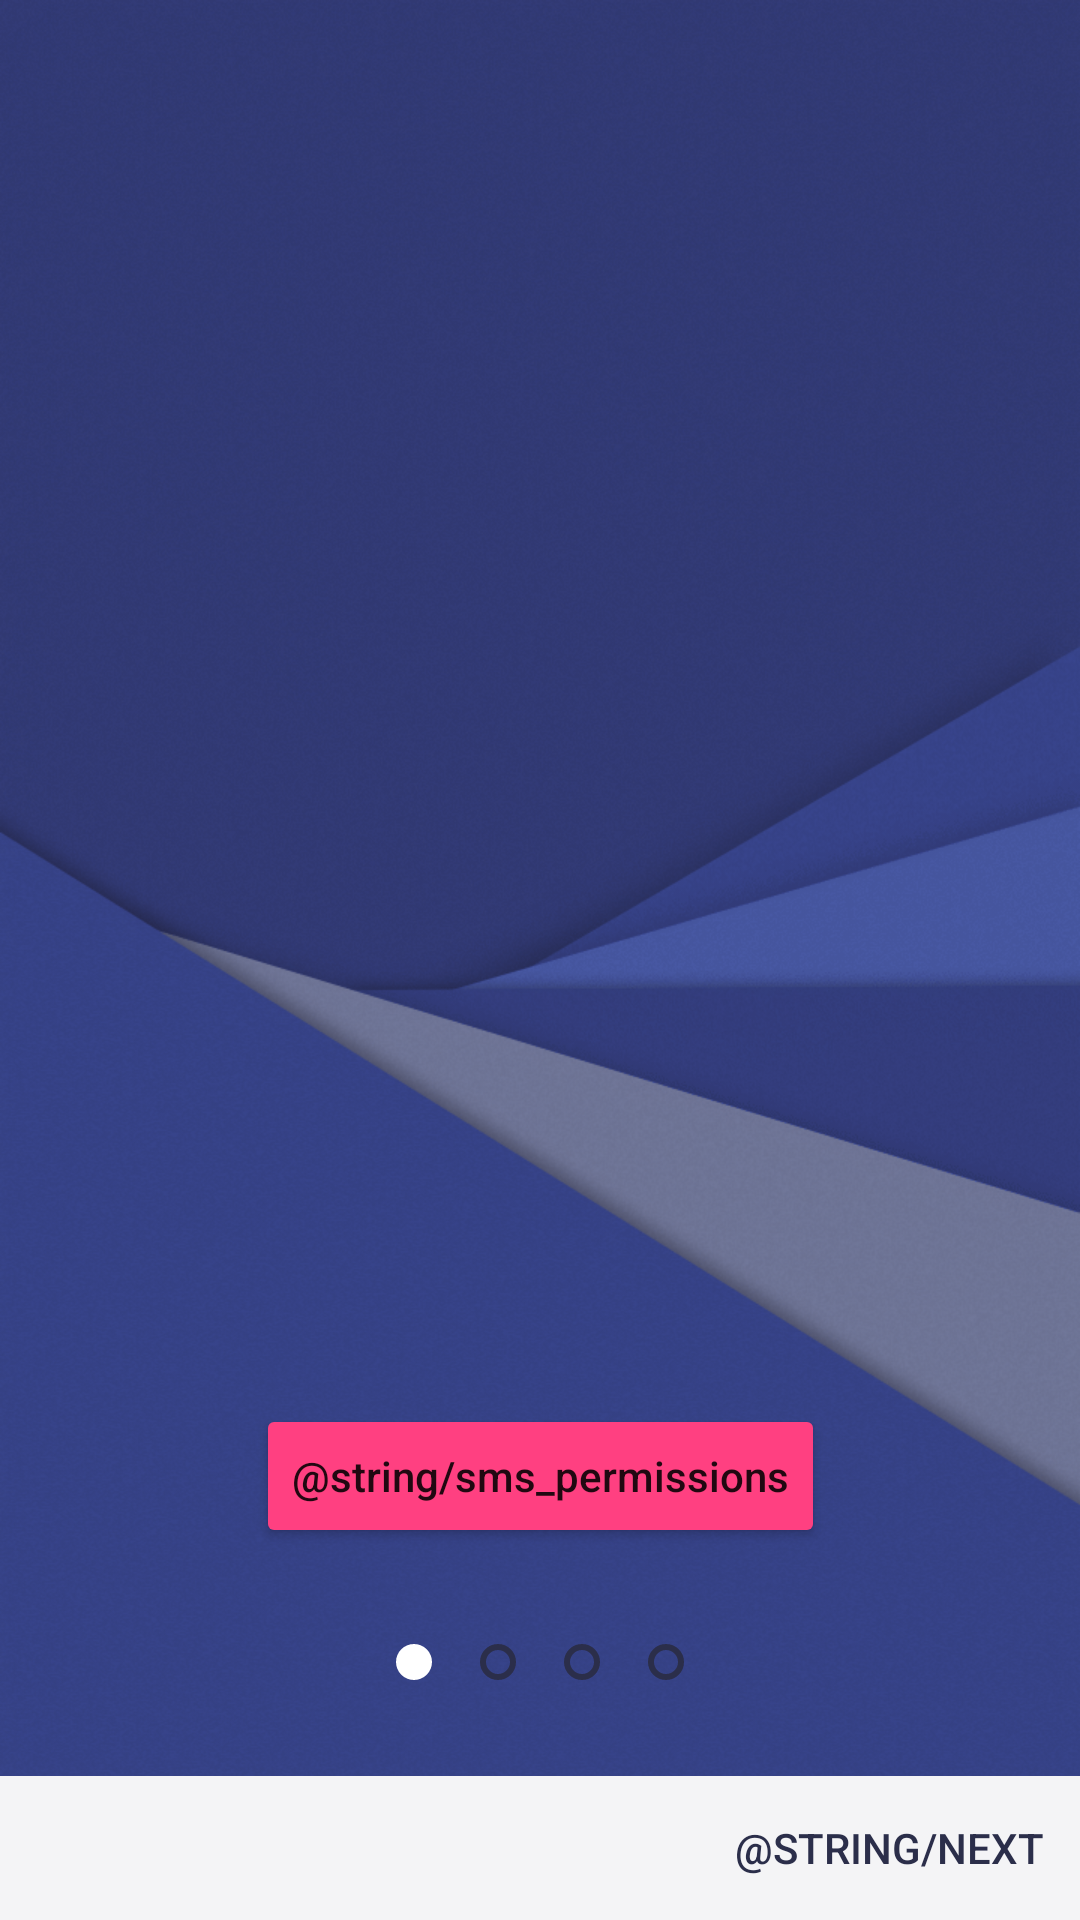

Locate icon controls on the screen. Image size 1080×1920, boxes as box=[x1, y1, x2, y2].
dot: box=[396, 1644, 432, 1680]
dot empty: box=[480, 1644, 516, 1680], box=[564, 1644, 600, 1680], box=[648, 1644, 684, 1680]
